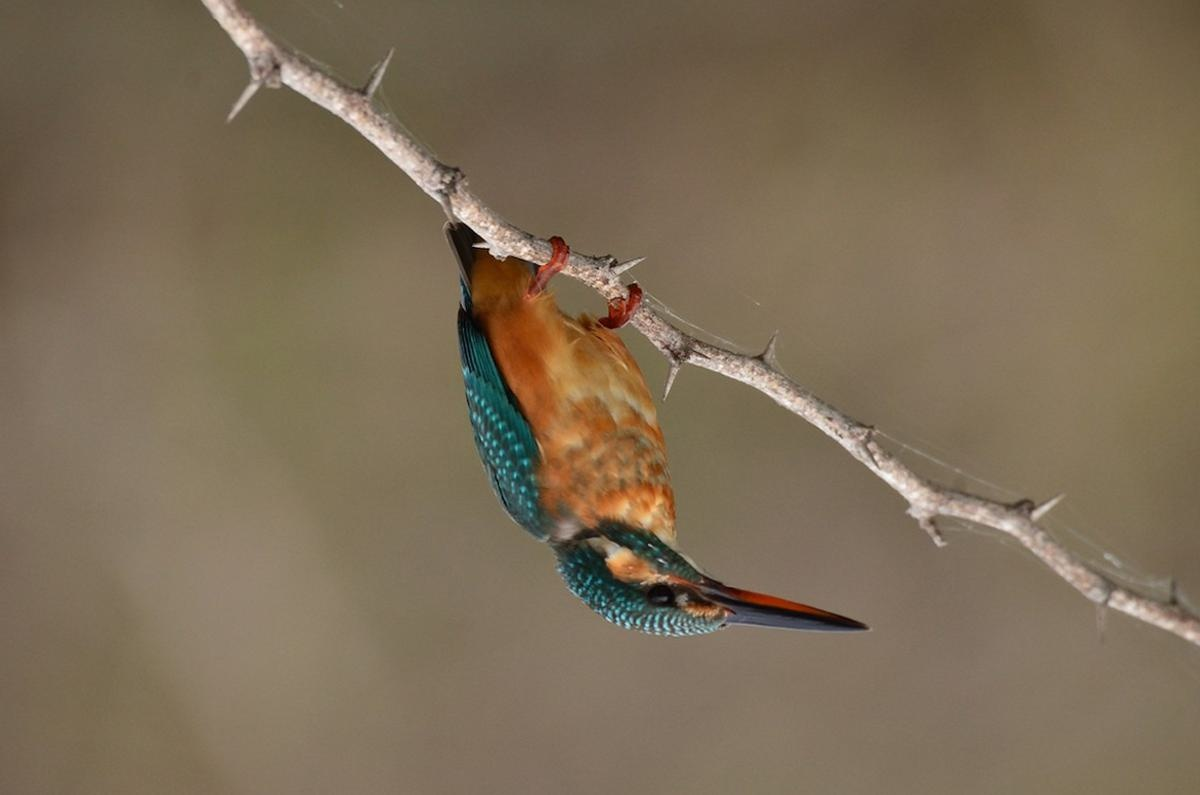kingfisher: (419, 191, 887, 661)
